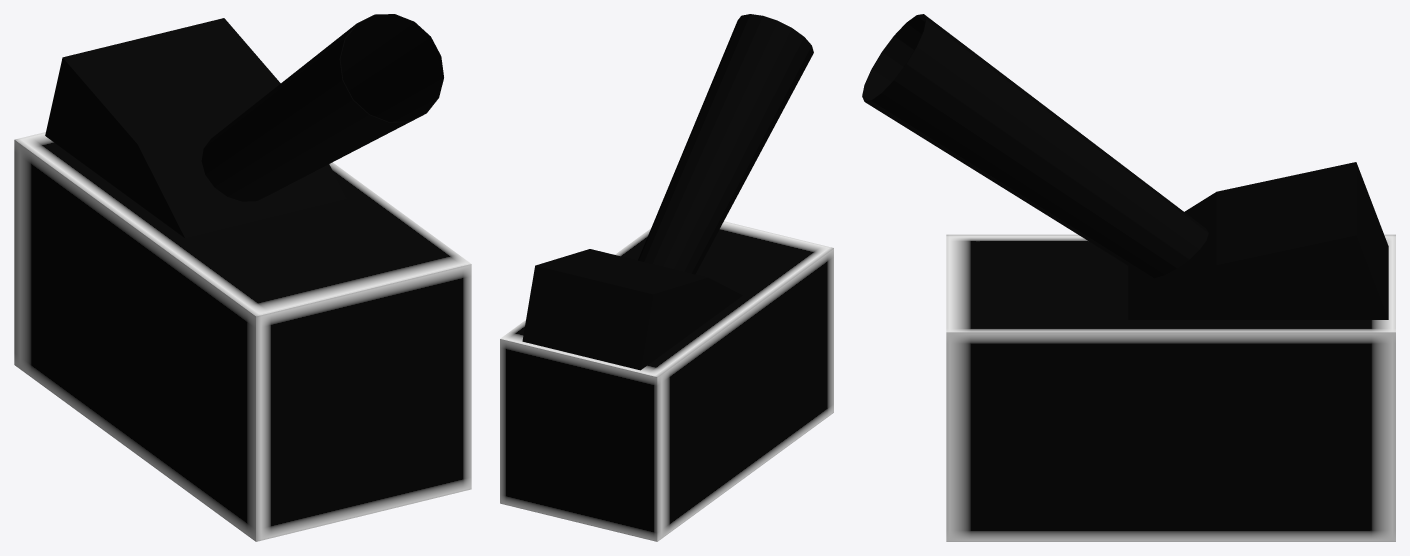
Rendered from ConfettiBlower.fbx.
The picture shows the model from 3 angles, left to right: view 1: azimuth 30°, elevation 25°; view 2: azimuth 150°, elevation 25°; view 3: azimuth 270°, elevation 25°; orthographic projection. The views are drawn at different scales.
Parts seen in each view (by area): view 1: Cube, Cylinder; view 2: Cube, Cylinder; view 3: Cube, Cylinder.
Boxes of the visible parts, x1,y1,x2,y2 form: Cube: [14, 18, 471, 541]; Cylinder: [201, 14, 443, 201]; Cube: [500, 221, 833, 541]; Cylinder: [638, 14, 813, 274]; Cube: [946, 162, 1395, 541]; Cylinder: [862, 14, 1208, 278].
Bounding box in the file's own units: 200 × 452 × 462.
Materials: 1 (1 with a texture image).
